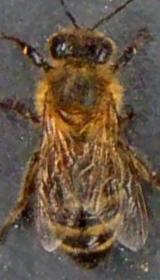varroa_mite: (56, 144, 80, 174)
